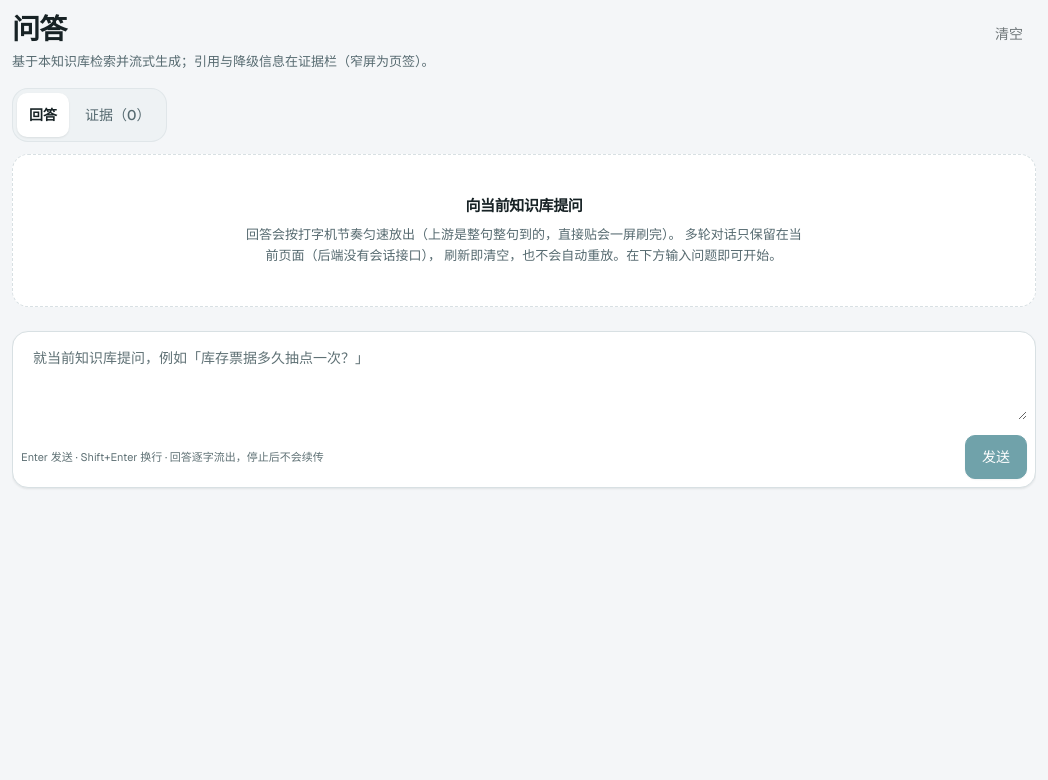
features/chat/ChatScreen › error 之后仍会收到 done：错误可见且终态是 FAILED，不会永远停在'失败中'
In the text box named "问题": (524, 380) [21,340,1027,420], type "电源怎么接？"
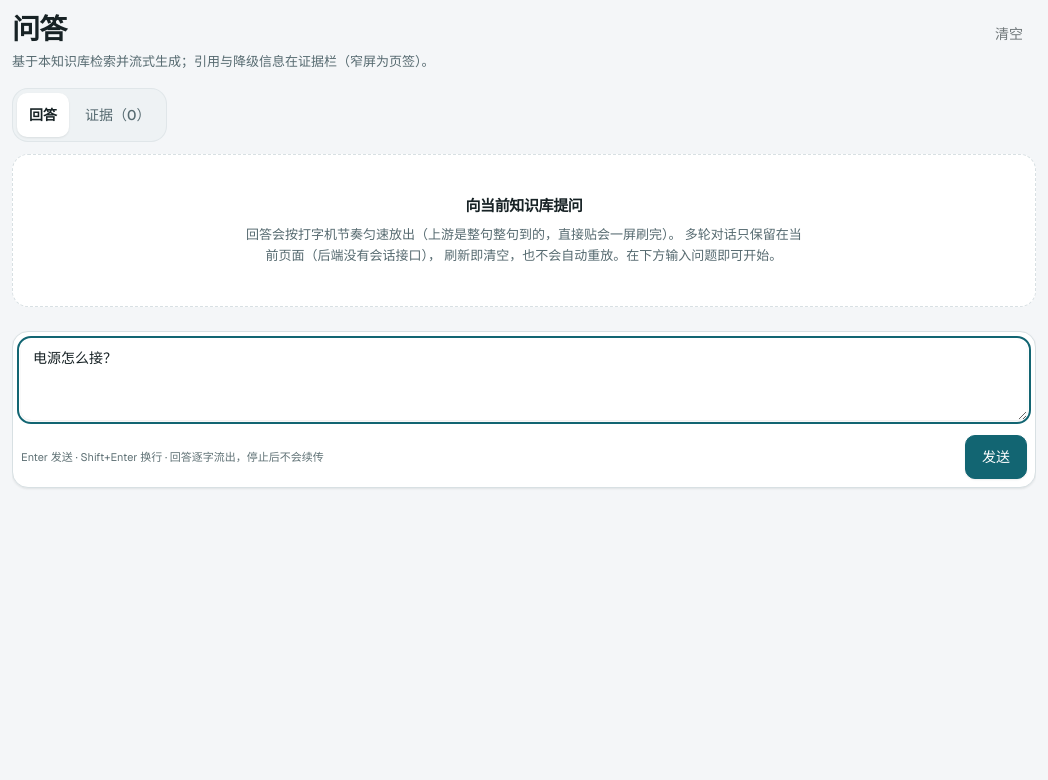
Click the button "发送": click(996, 457) [965,435,1027,479]
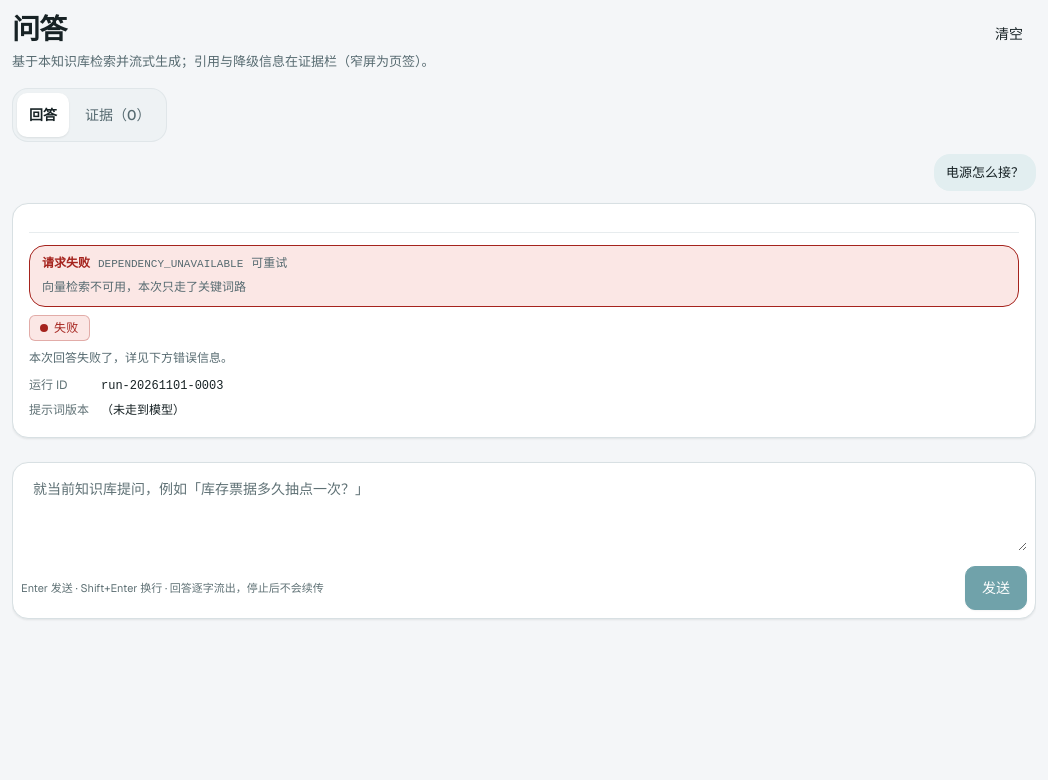
Now the message shows "向量检索不可用，本次只走了关键词路", box [42,279,246,295]
Now the message shows "DEPENDENCY_UNAVAILABLE", box [98,258,243,270]
Now the text "失败" is shown, box [54,318,79,338]
